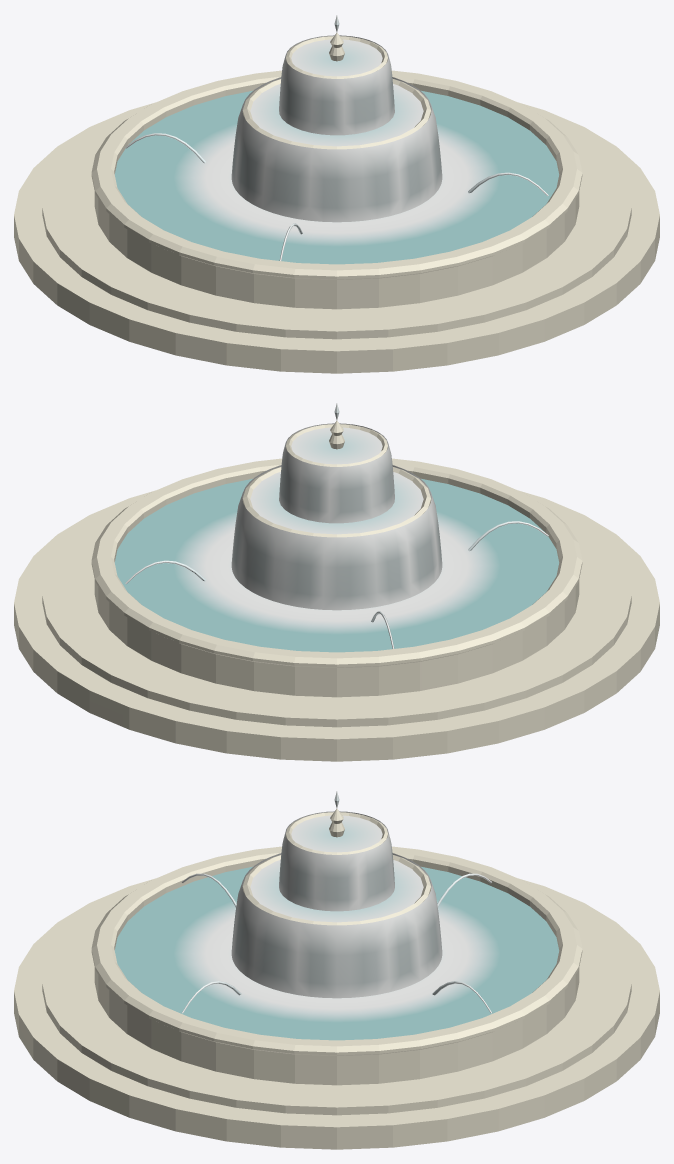
The model's file is SM_BM_BH_FountainPiazza.glb.
The picture shows the model from 3 angles, top to bottom: view 1: azimuth 30°, elevation 25°; view 2: azimuth 150°, elevation 25°; view 3: azimuth 270°, elevation 25°; orthographic projection.
Parts seen in each view (by area): view 1: SM_BM_BH_FountainPiazza; view 2: SM_BM_BH_FountainPiazza; view 3: SM_BM_BH_FountainPiazza.
Part boxes in pixels (<box>): SM_BM_BH_FountainPiazza: <box>14,15,659,373</box>; SM_BM_BH_FountainPiazza: <box>14,403,659,761</box>; SM_BM_BH_FountainPiazza: <box>14,791,659,1149</box>.
Bounding box in the file's own units: 12 × 4.57 × 12.
